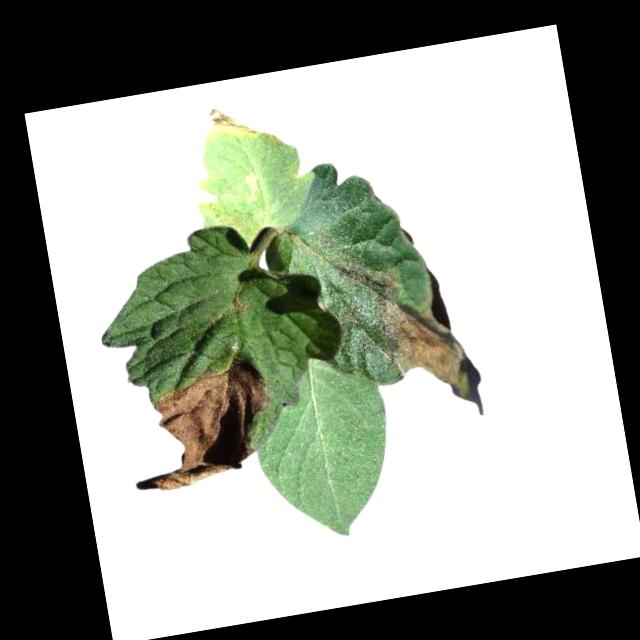Late_blight: (137, 349, 283, 492), (370, 262, 485, 420), (203, 101, 257, 142)
